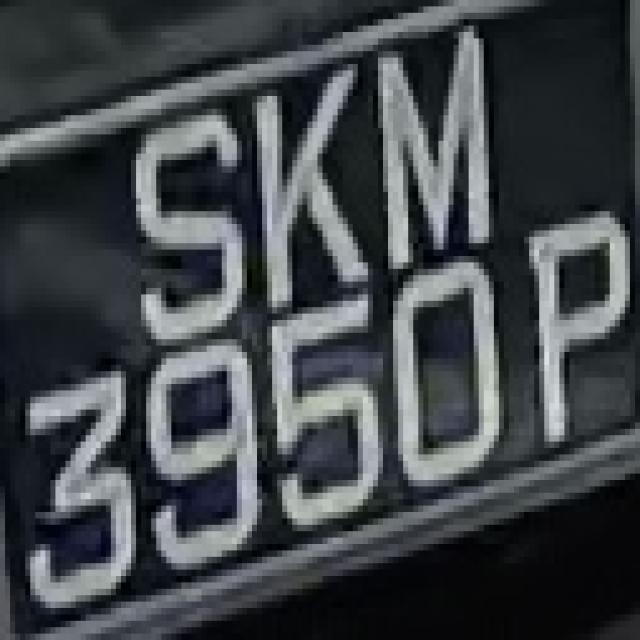0: (373, 268, 504, 506)
3: (30, 365, 141, 640)
5: (262, 301, 383, 531)
9: (141, 333, 272, 576)
K: (237, 70, 373, 301)
M: (353, 32, 509, 269)
P: (524, 212, 640, 454)
S: (106, 115, 252, 333)
